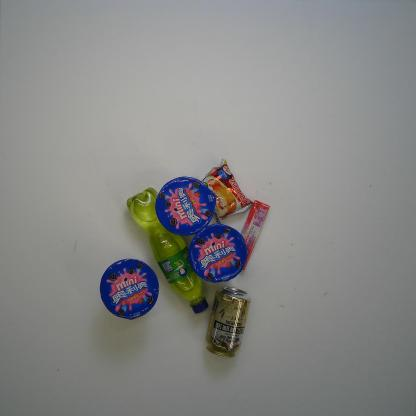Alcohol: (205, 285, 252, 358)
Candy: (240, 199, 270, 271)
Dessert: (155, 175, 217, 237), (100, 258, 160, 320), (188, 223, 248, 284), (200, 158, 254, 224)
Drink: (126, 187, 210, 315)
